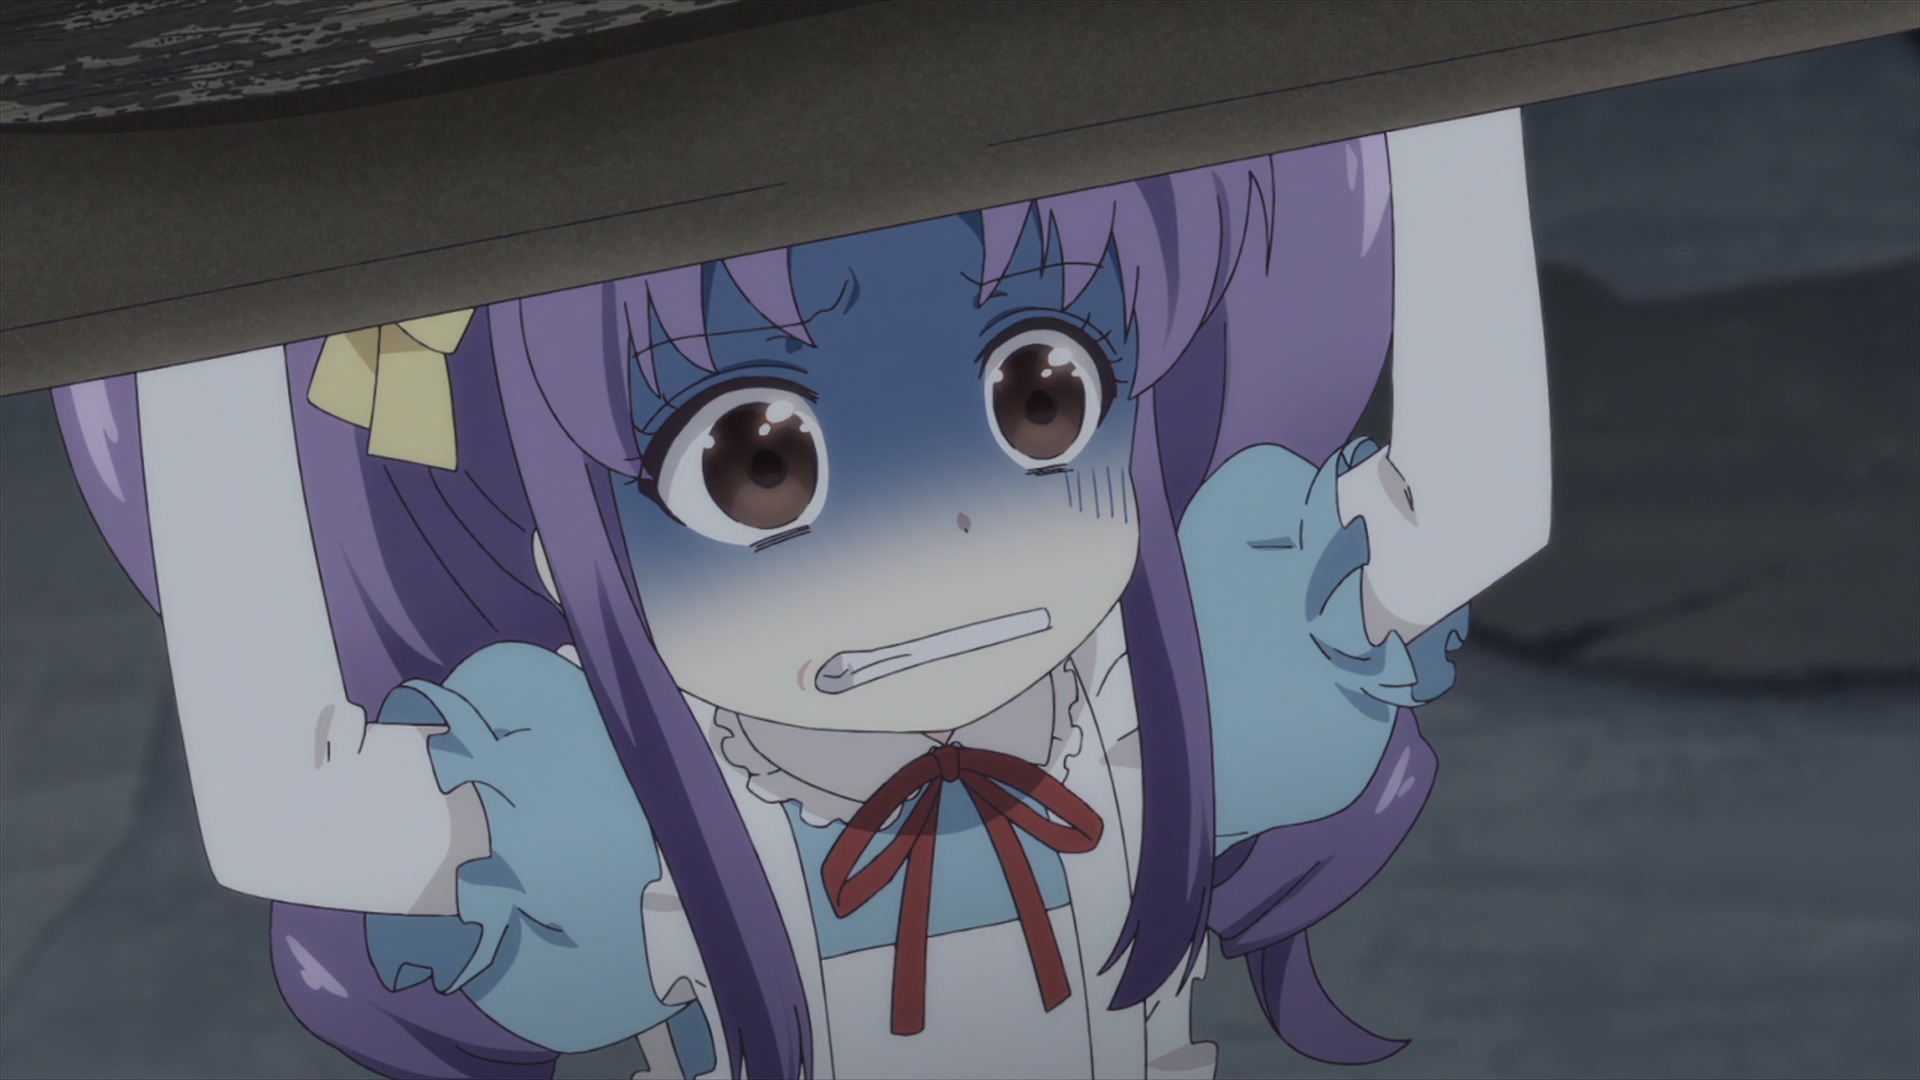阿菊: (49, 109, 1553, 1080)
